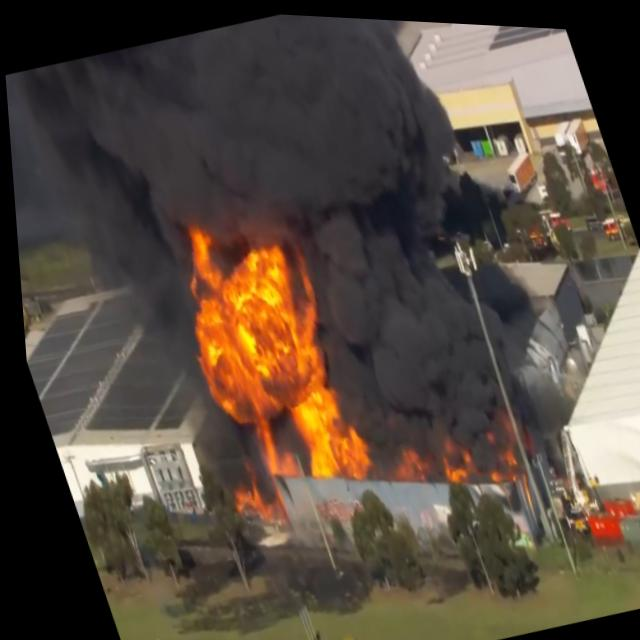Fire: (141, 185, 380, 507), (462, 403, 519, 483), (390, 432, 460, 489)
